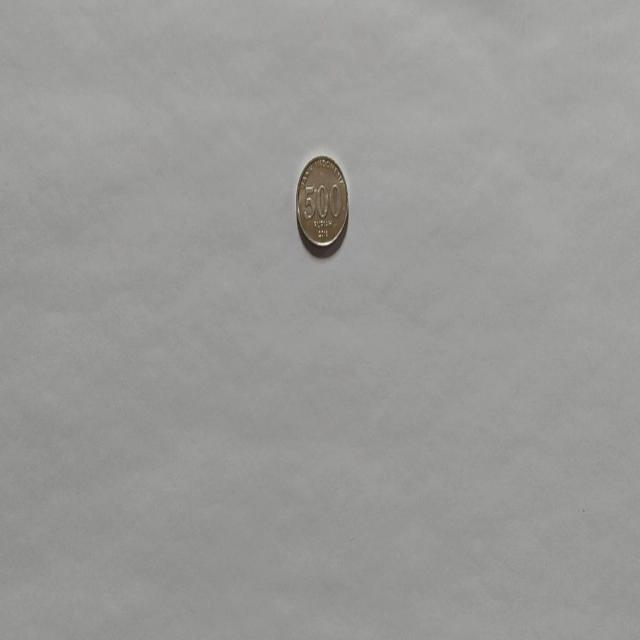lima ratus rupiah: (295, 153, 349, 251)
